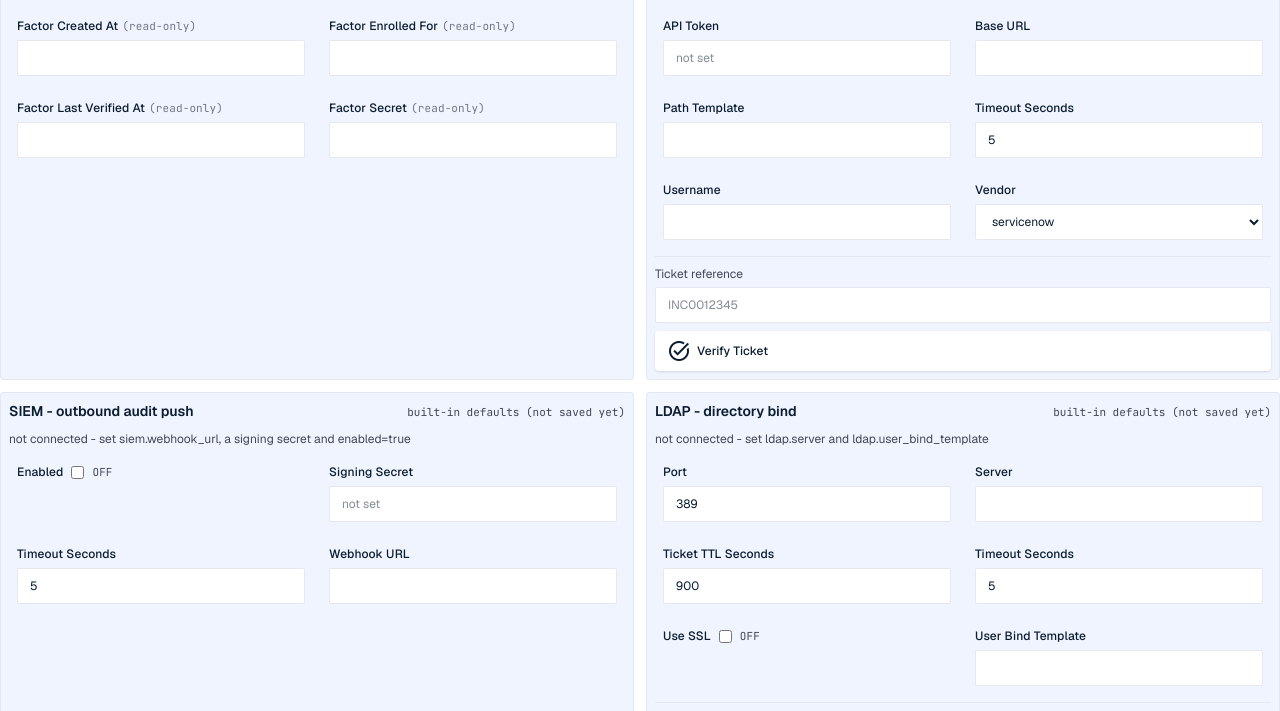
Test: ITSM verify (11.4 NEW action - no legacy button calls it) › an empty ticket surfaces the server 400 validation line verbatim
(page scrolled)
Click the button "Verify Ticket": click(733, 351) [655, 331, 1271, 371]
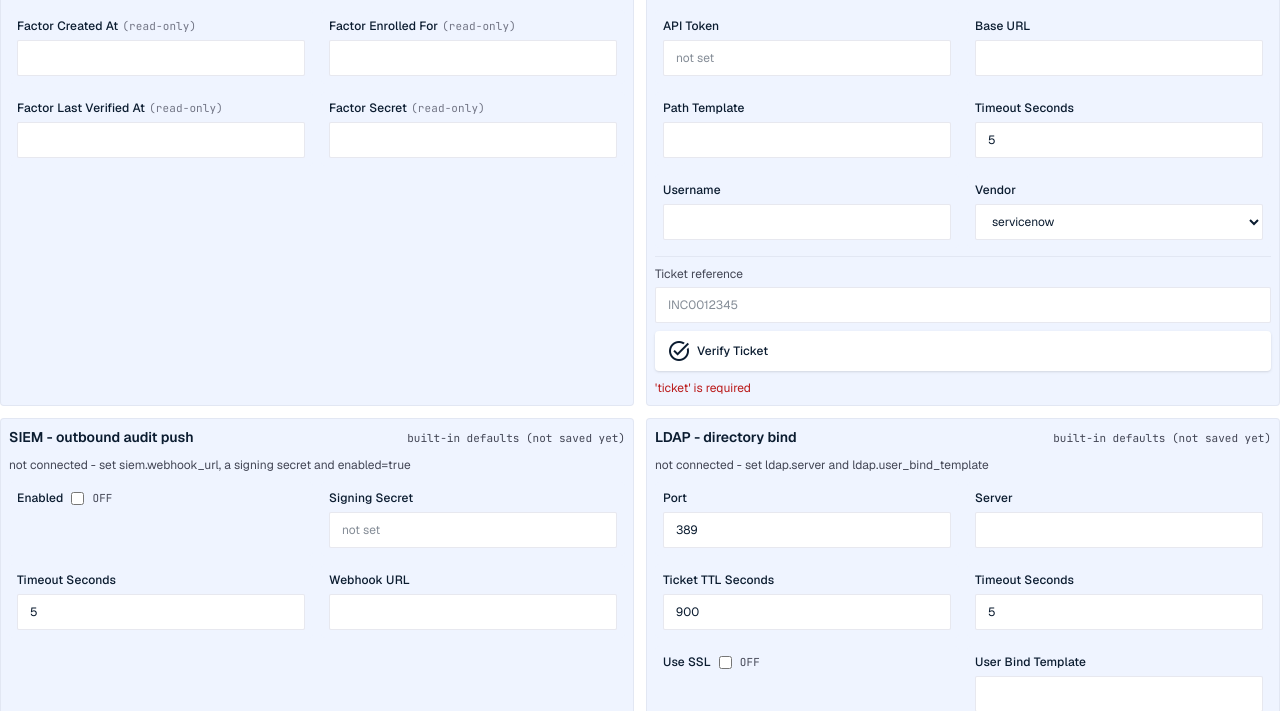
Check: the text "'ticket' is required" is shown, box [655, 380, 751, 396]
